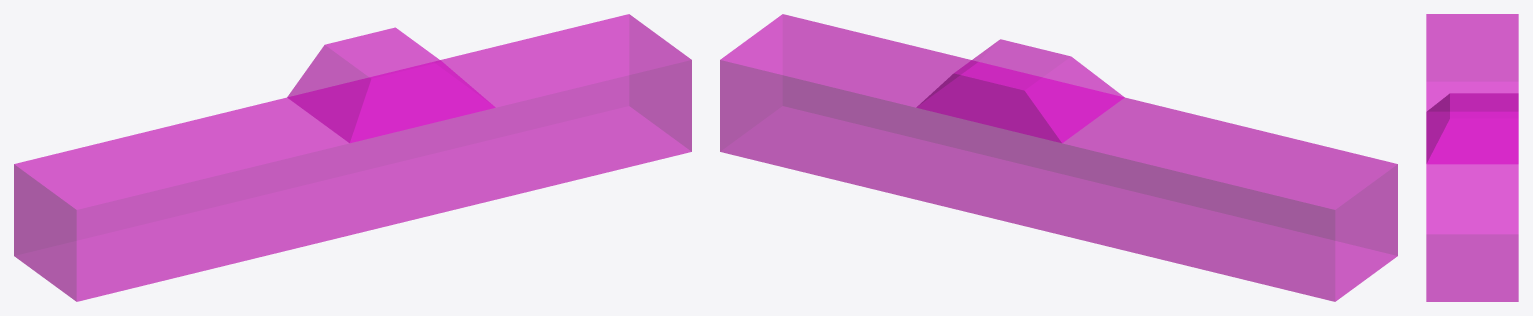
Rendered from SM_Bld_Wall_L_Damaged_08_Collision.fbx.
The picture shows the model from 3 angles, left to right: view 1: azimuth 30°, elevation 25°; view 2: azimuth 150°, elevation 25°; view 3: azimuth 270°, elevation 25°; orthographic projection. The views are drawn at different scales.
Visible parts, largest first — view 1: SM_Bld_Wall_L_Damaged_08_Collision; view 2: SM_Bld_Wall_L_Damaged_08_Collision; view 3: SM_Bld_Wall_L_Damaged_08_Collision.
Boxes of the visible parts, <box> form: SM_Bld_Wall_L_Damaged_08_Collision: <box>14,14,691,301</box>; SM_Bld_Wall_L_Damaged_08_Collision: <box>720,14,1397,301</box>; SM_Bld_Wall_L_Damaged_08_Collision: <box>1426,14,1518,301</box>.
Bounding box in the file's own units: 501 × 105 × 88.43.
